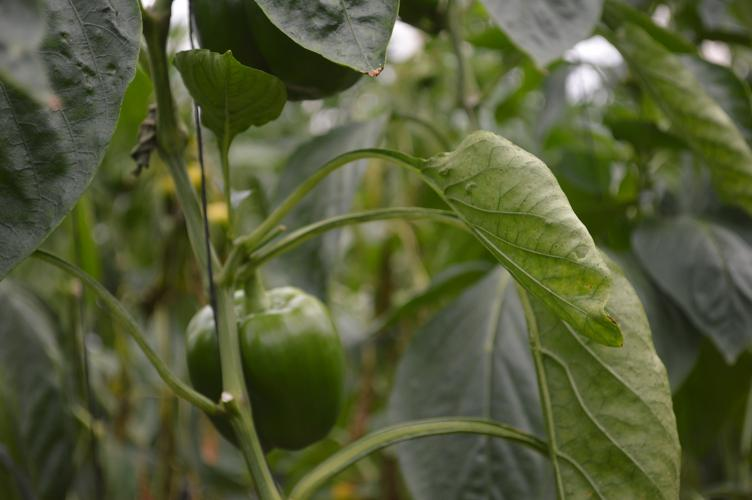BellPepper: (177, 280, 341, 459)
